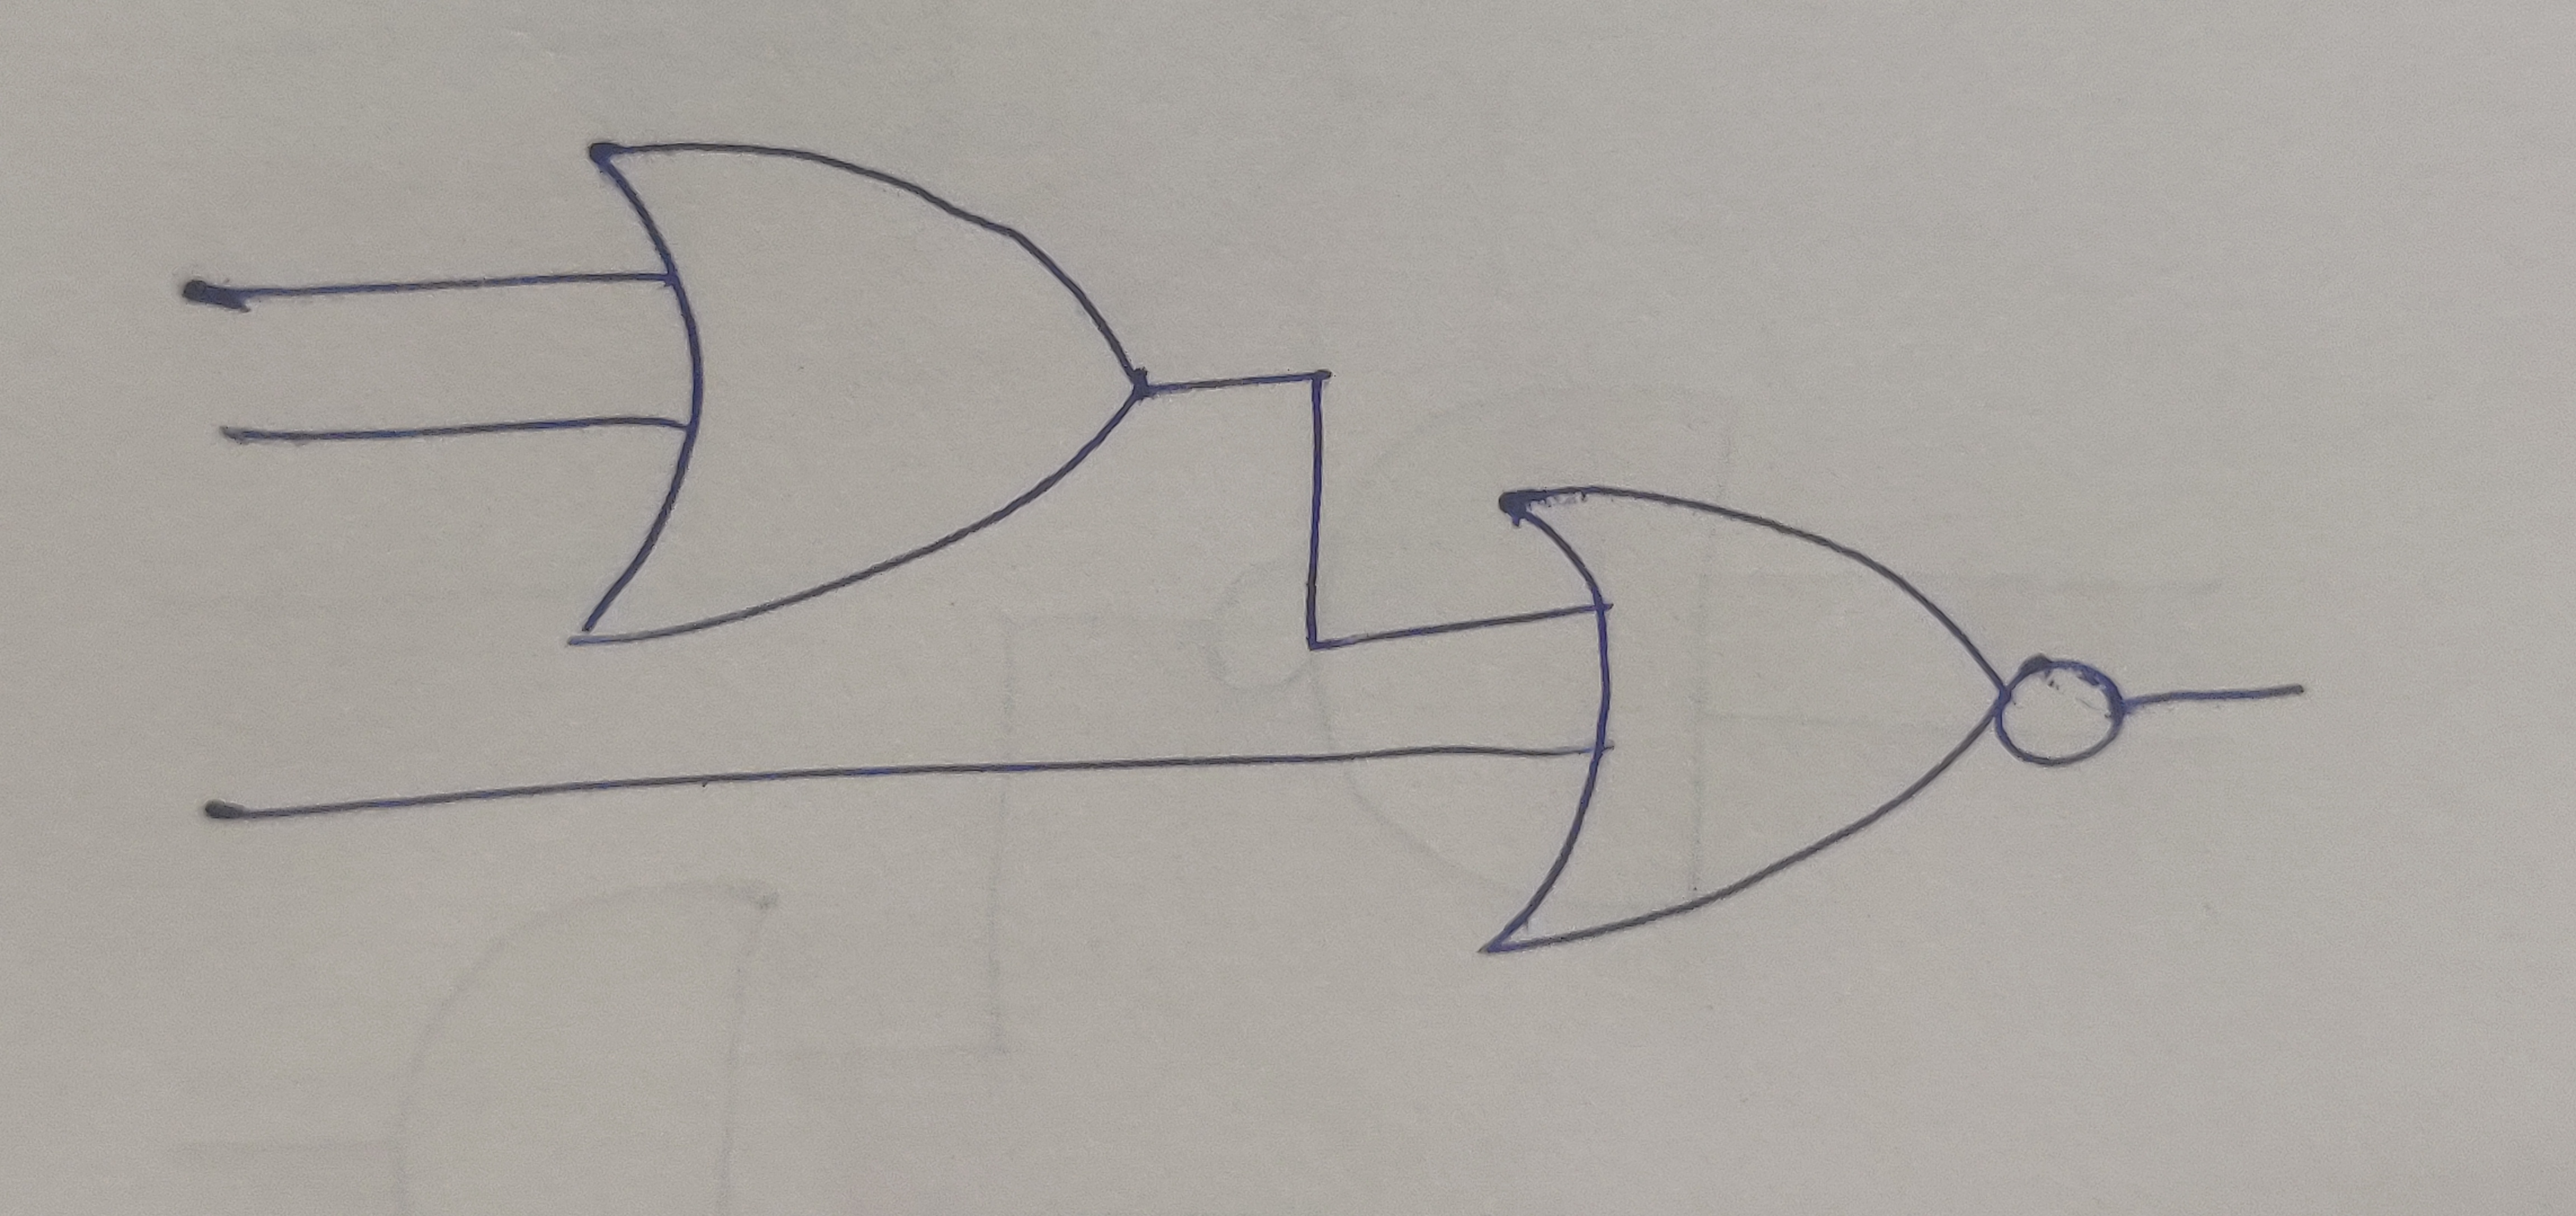not: (1991, 647, 2136, 776)
or: (582, 138, 1160, 661), (1488, 480, 2011, 970)
